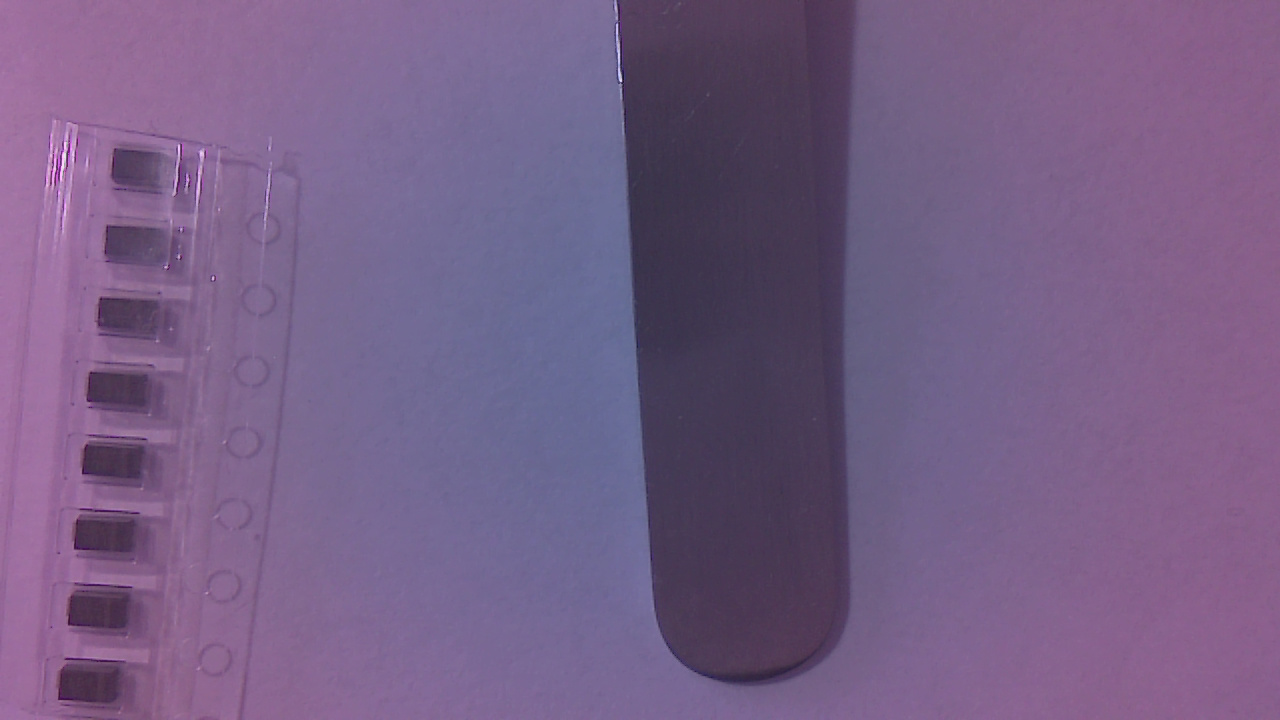Diode: (97, 296, 177, 344), (112, 153, 190, 200), (86, 371, 165, 413), (105, 227, 181, 270), (83, 441, 158, 484), (60, 668, 131, 712), (67, 594, 138, 636), (72, 521, 144, 562)
